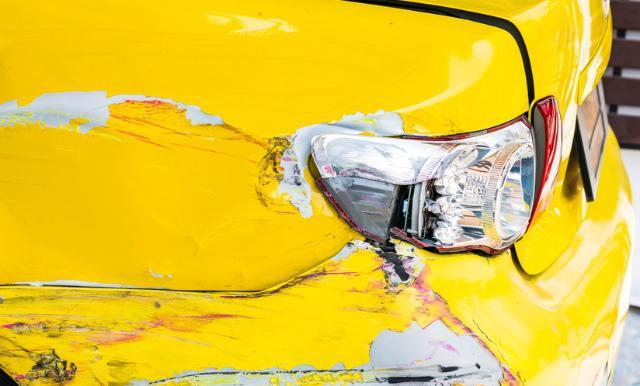Fender: (0, 0, 522, 386)
Light: (307, 98, 563, 260)
